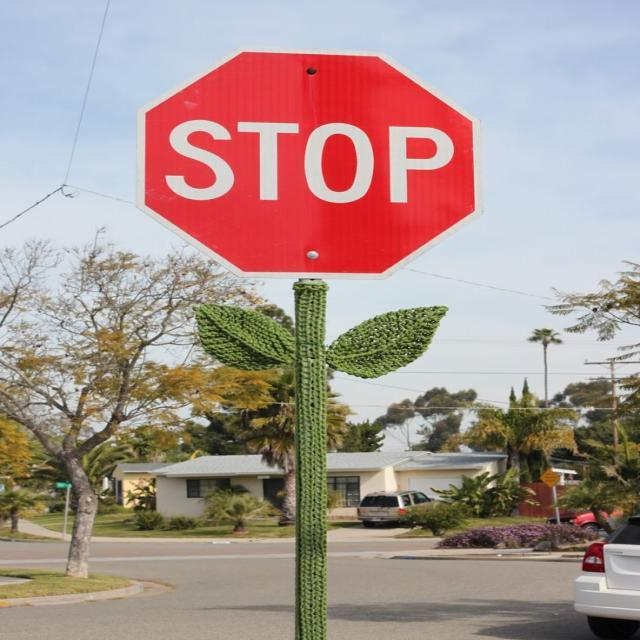stop: (134, 49, 480, 279)
